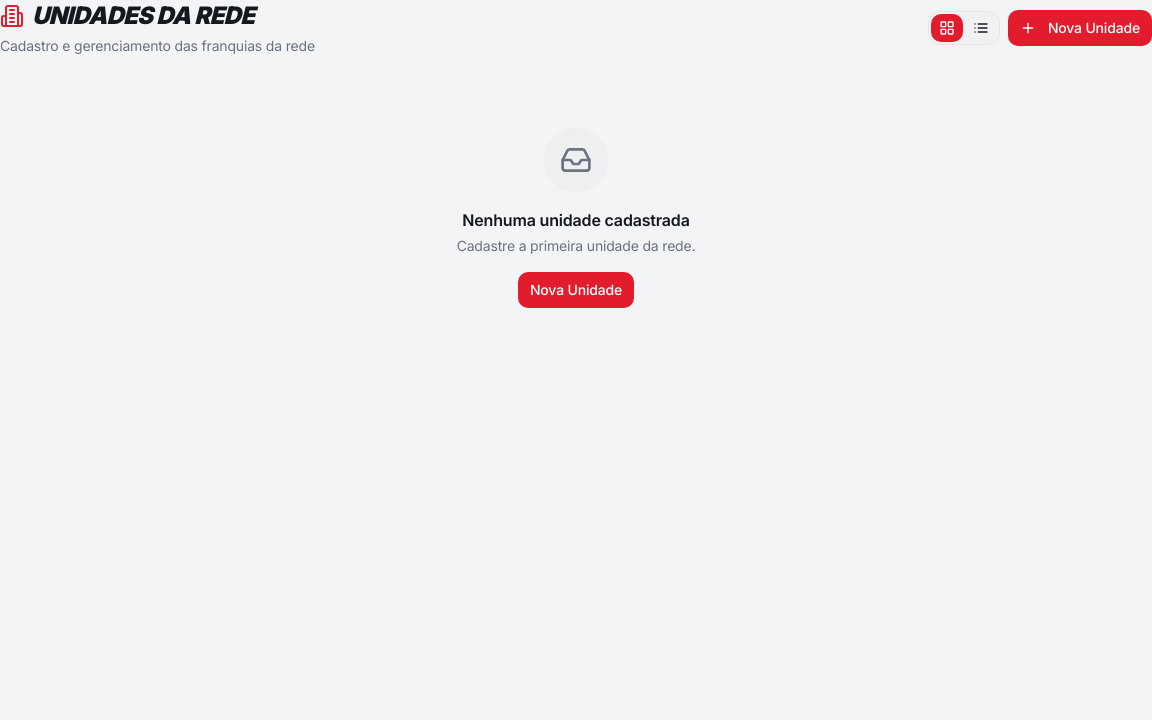
Test: Unidades — Wizard de Provisionamento › mostra tela de sucesso após provisionar
The width and height of the screenshot is (1152, 720).
Click the button "Nova Unidade" in the row of "Unidades da Rede".
click(1080, 28)  # box [1008, 10, 1151, 46]
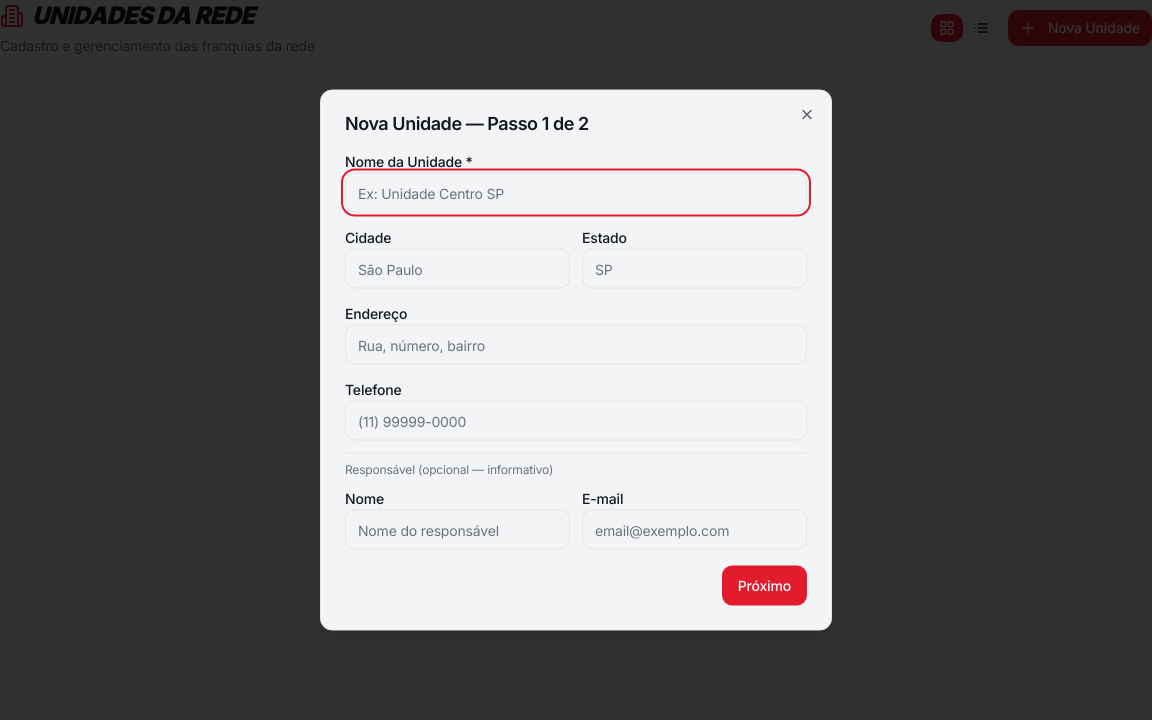
Type "Unidade X" into the field with placeholder "Ex: Unidade Centro SP".
click(576, 192); type("Unidade X")  # box [345, 172, 807, 212]
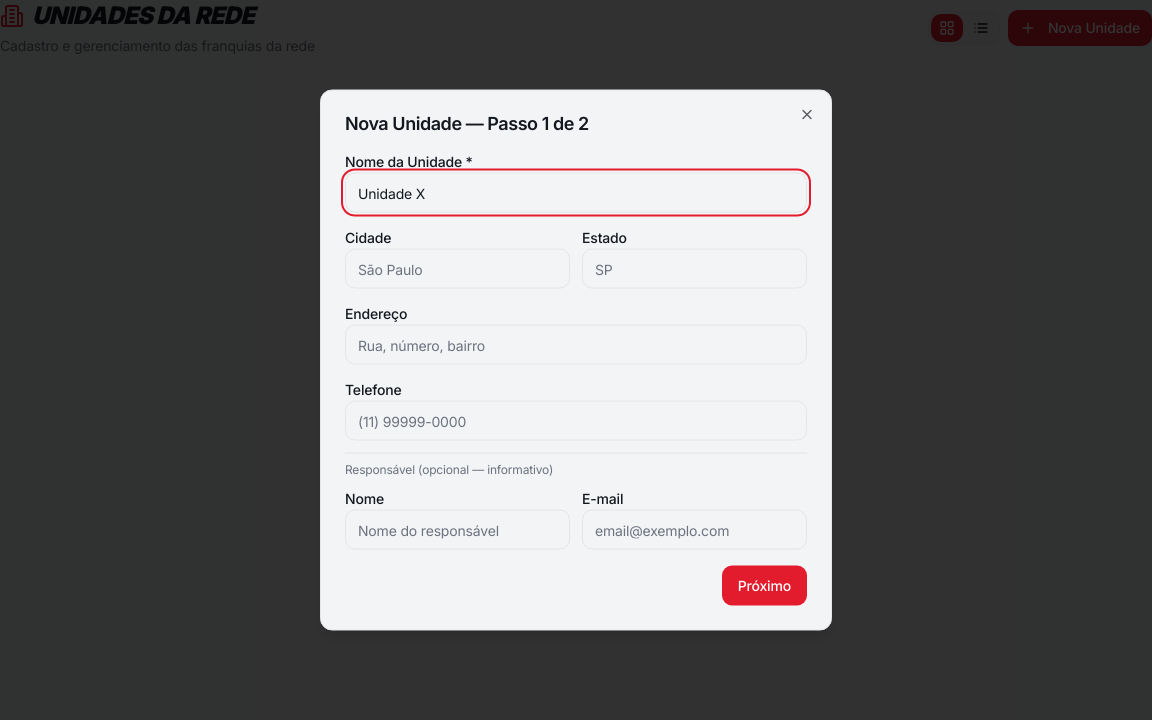
Click the button "Próximo".
click(764, 586)  # box [722, 566, 807, 606]
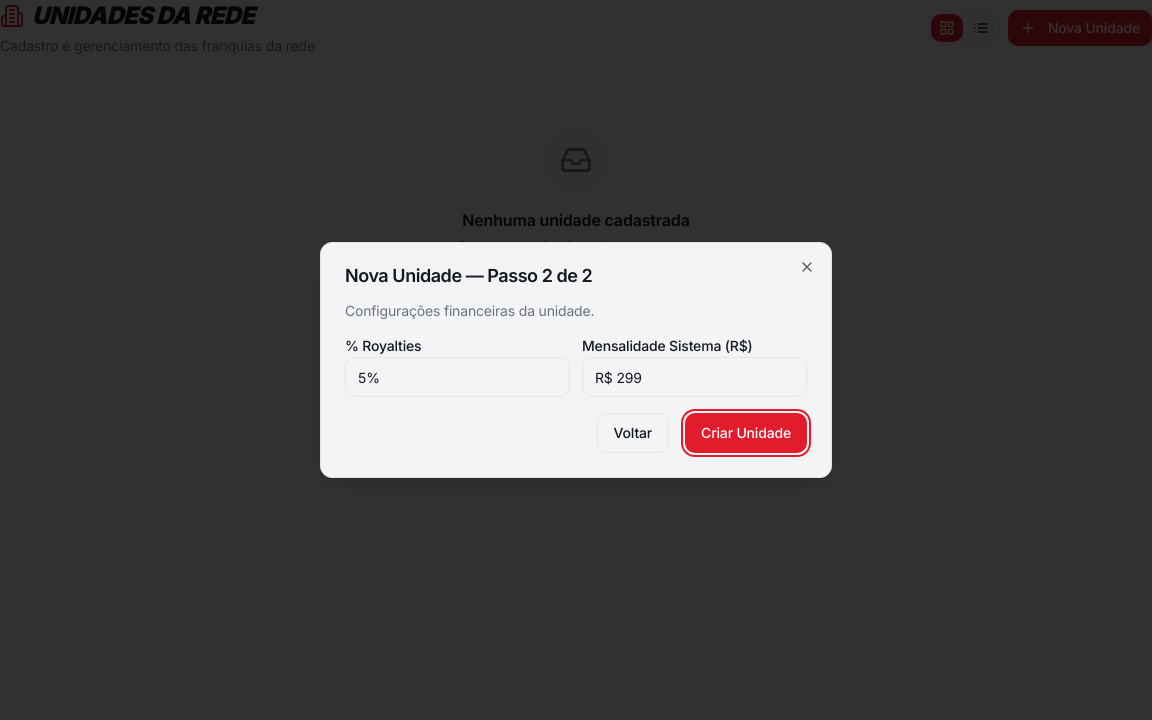
Click the button "Criar Unidade".
click(746, 433)  # box [685, 413, 807, 453]
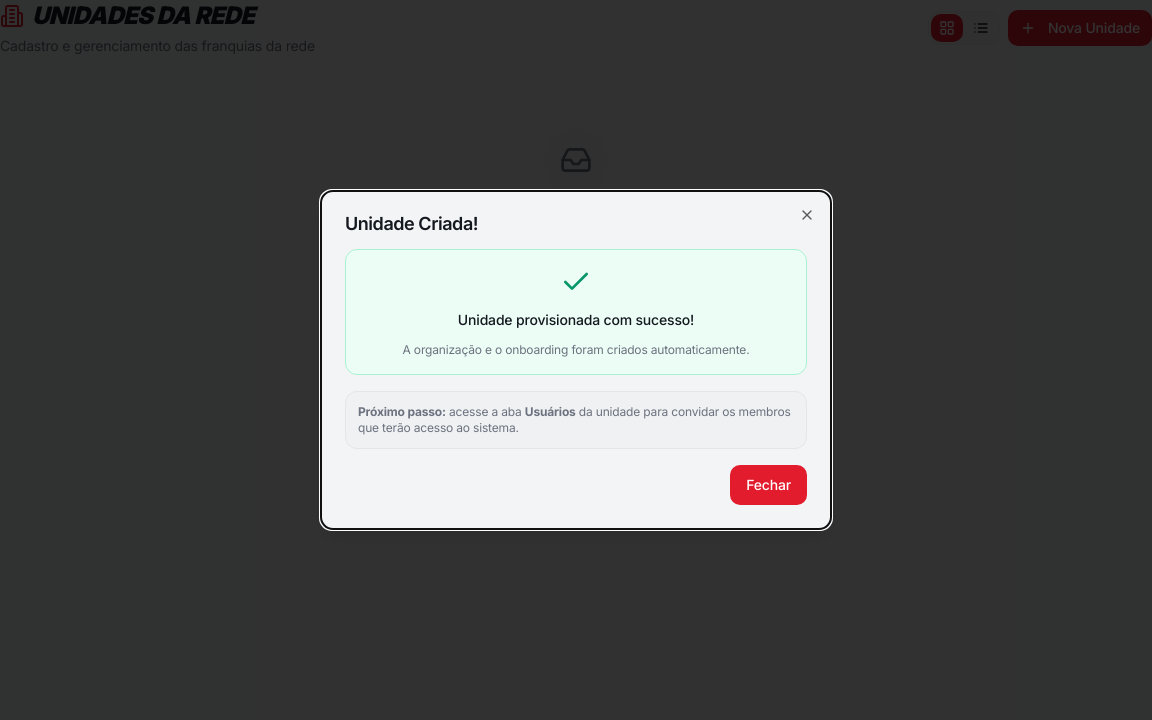
Now the heading "Unidade Criada!" is shown, box [345, 213, 478, 234]
